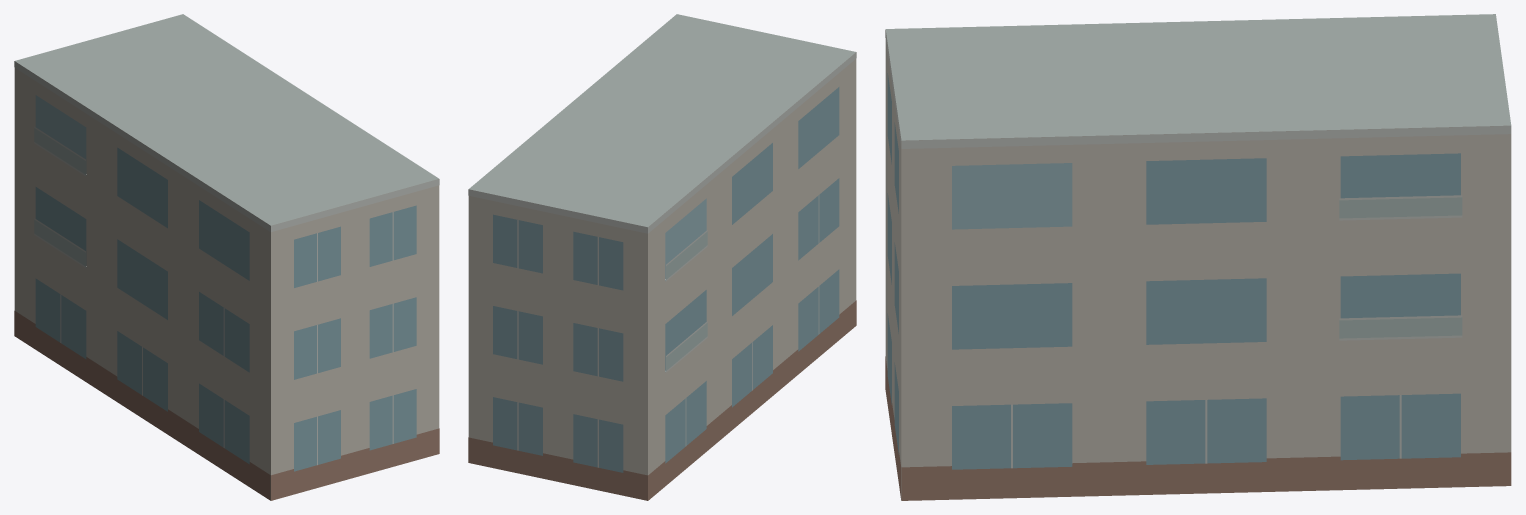
File: survey-upis-32857458.glb
3 views of the same model, side by side, from view 1: azimuth 30°, elevation 25°; view 2: azimuth 150°, elevation 25°; view 3: azimuth 270°, elevation 25° (orthographic). The views are drawn at different scales.
Parts seen in each view (by area): view 1: survey-upis-32857458.tmp; view 2: survey-upis-32857458.tmp; view 3: survey-upis-32857458.tmp.
Boxes of the visible parts, bbox=[...] form: survey-upis-32857458.tmp: bbox=[14, 14, 439, 500]; survey-upis-32857458.tmp: bbox=[468, 14, 856, 500]; survey-upis-32857458.tmp: bbox=[885, 14, 1511, 500].
Bounding box in the file's own units: 7.8 × 10.35 × 16.3.
